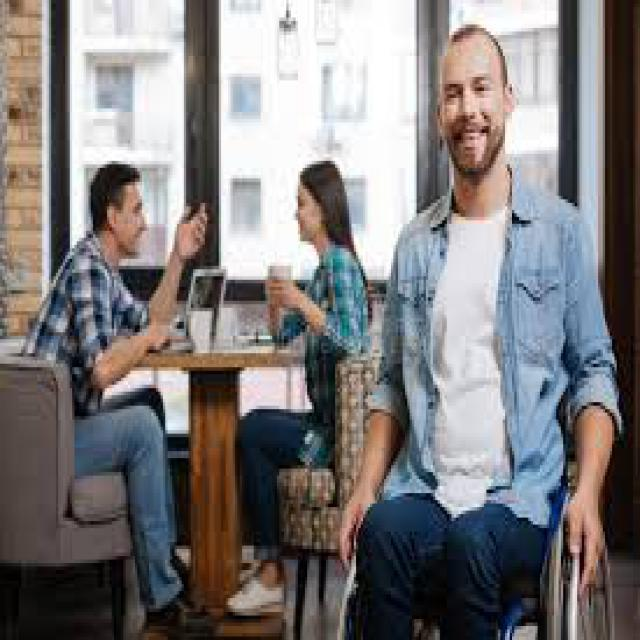wheelchairs: (326, 300, 626, 636)
